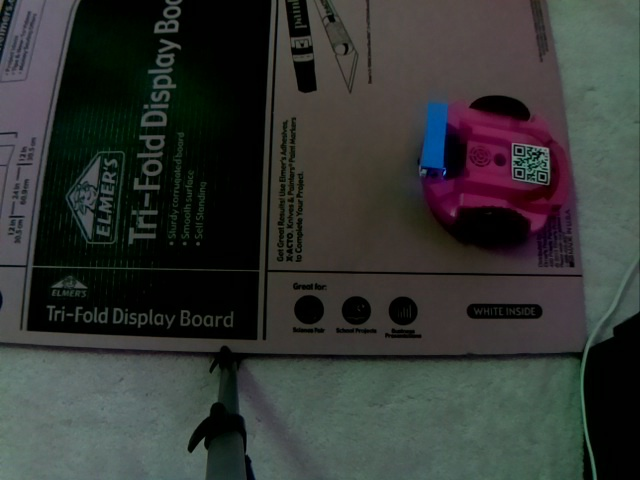chassis: (419, 94, 572, 248)
qr: (508, 137, 555, 193)
